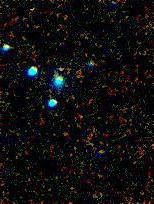star: (48, 53, 78, 83)
